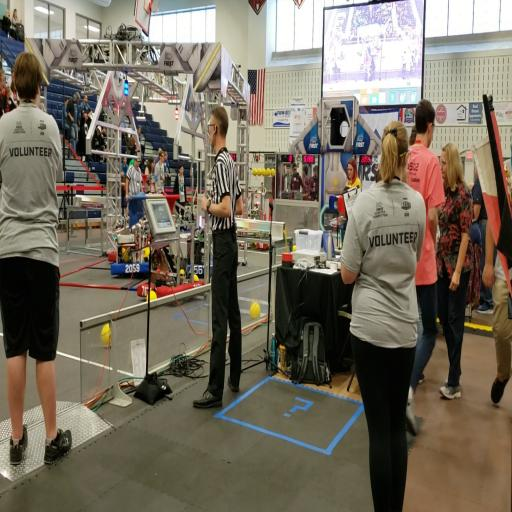robot: (135, 209, 204, 302), (110, 218, 151, 276)
